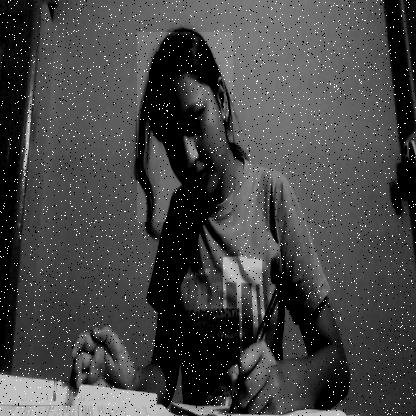Distracted: (136, 32, 232, 222)
